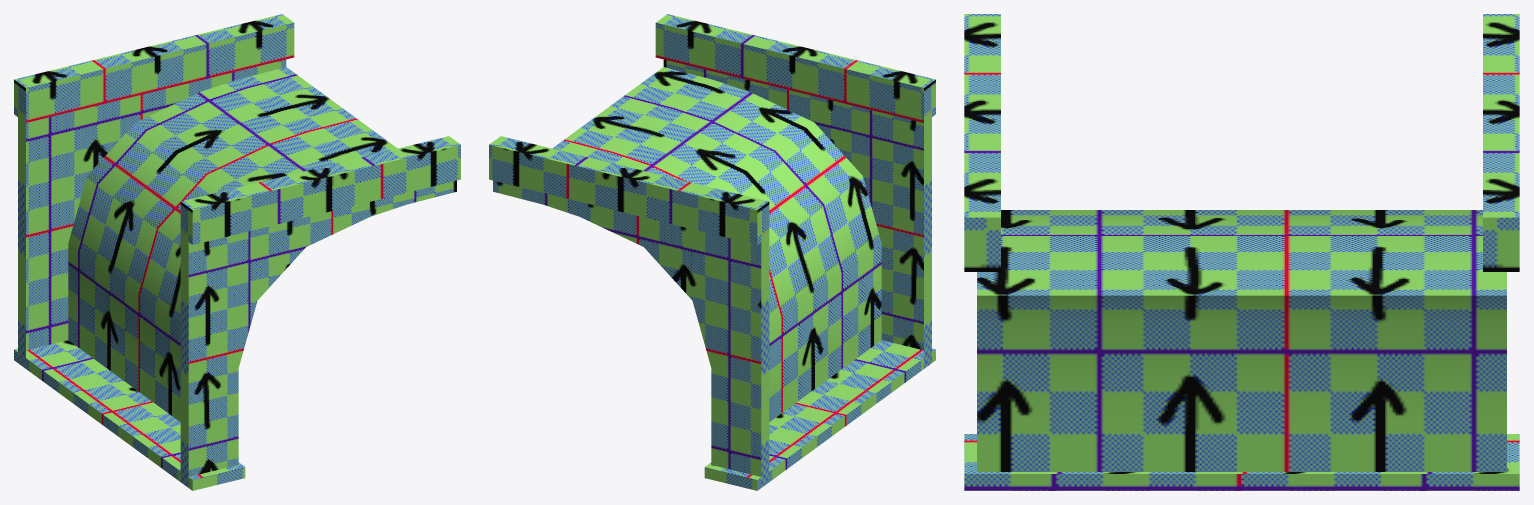
The model's file is arch_big.obj.
3 renders of one model, left to right at view 1: azimuth 30°, elevation 25°; view 2: azimuth 150°, elevation 25°; view 3: azimuth 270°, elevation 25°, orthographic. The views are drawn at different scales.
Visible parts, largest first — view 1: arch.002; view 2: arch.002; view 3: arch.002.
Part boxes in pixels (x1=…): arch.002: x1=14, y1=14, x2=460, y2=490; arch.002: x1=489, y1=14, x2=935, y2=490; arch.002: x1=964, y1=14, x2=1519, y2=490.
Size of the model in its own units: 10 by 10 by 11.52.
